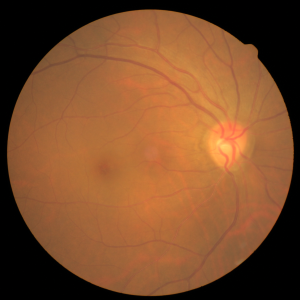cataract: (60, 92, 269, 205)
